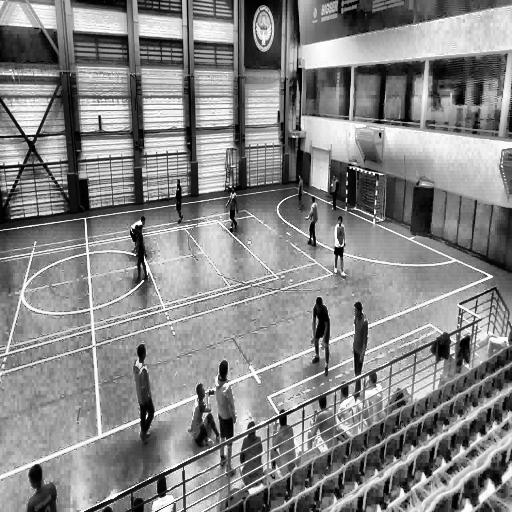player: (213, 359, 236, 477), (134, 345, 155, 447), (311, 294, 330, 372), (352, 301, 367, 386), (332, 215, 346, 277), (134, 220, 148, 281), (130, 214, 148, 254), (227, 186, 239, 234), (308, 195, 318, 246), (330, 174, 340, 211), (175, 180, 183, 224), (297, 174, 304, 208)
